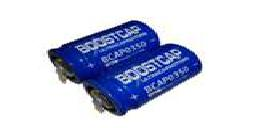Electrolytic-Capacitor: (45, 18, 208, 114)
